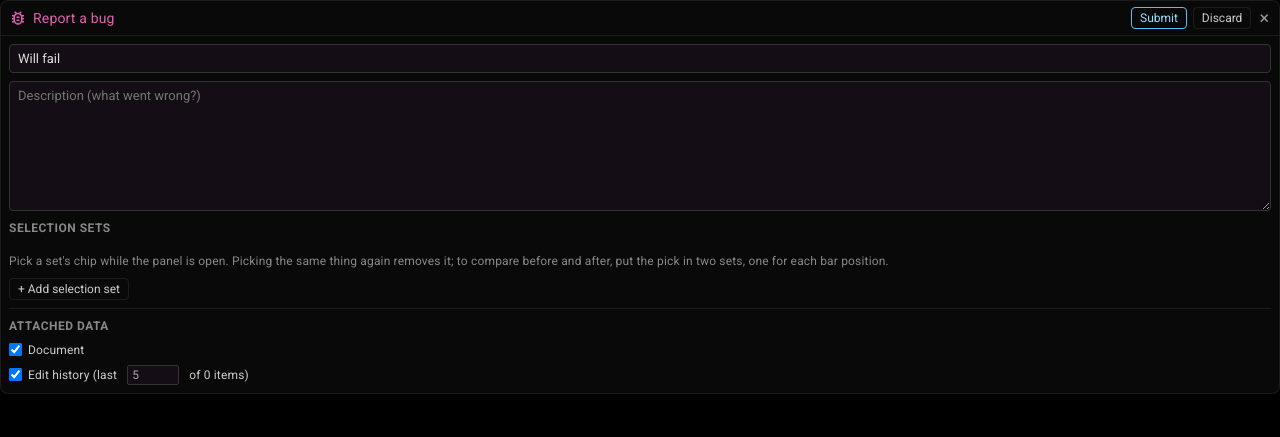
Test: BugReportPanel › reports a failed submit and keeps the panel open
Click the button "Submit" at [1159, 18], box [1131,7,1187,29]
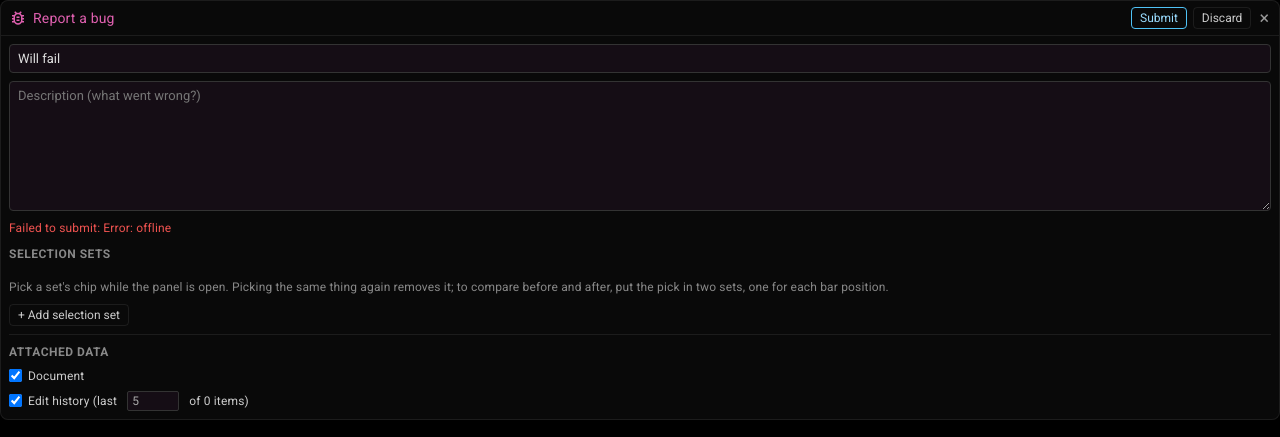
Expected: the text "Report a bug" is shown, [33,10,115,26]
Expected: the text "Failed to submit: Error: offline" is shown, [9,221,171,235]
